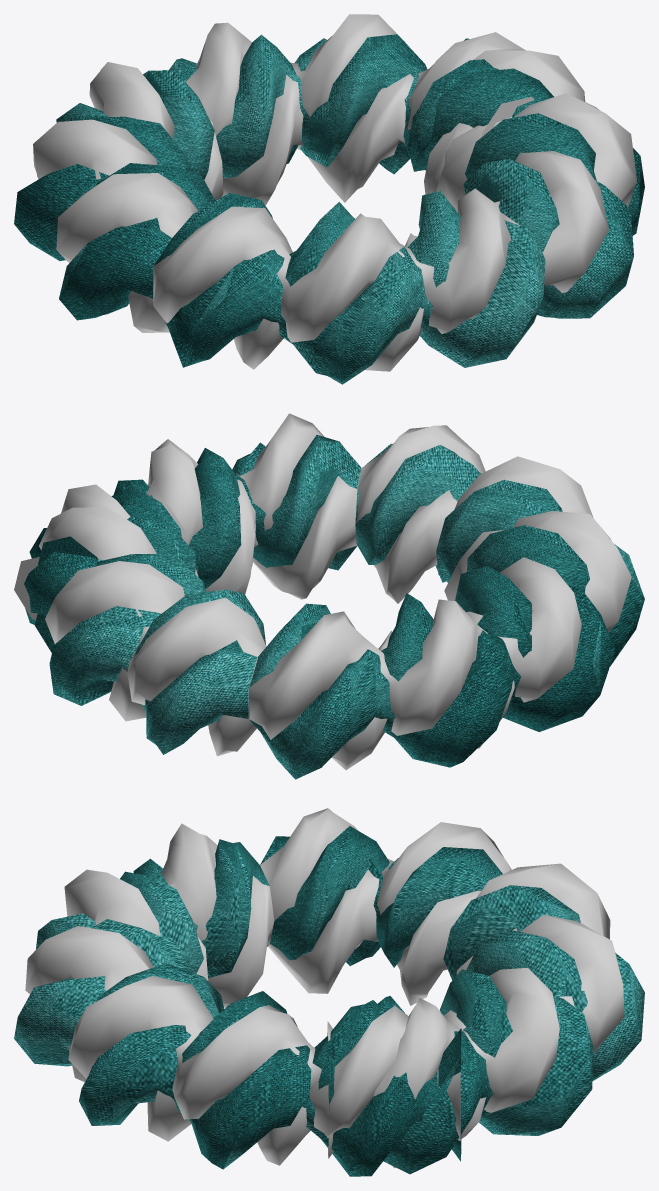
The model's file is chouchou.FBX.
3 views of the same model, one above another, from view 1: azimuth 30°, elevation 25°; view 2: azimuth 150°, elevation 25°; view 3: azimuth 270°, elevation 25° (orthographic). The views are drawn at different scales.
Visible parts, largest first — view 1: Cylindre006, Cylindre005, Cylindre004, Cylindre003; view 2: Cylindre006, Cylindre005, Cylindre004, Cylindre003; view 3: Cylindre006, Cylindre005, Cylindre004, Cylindre003.
Boxes of the visible parts, x1,y1,x2,y2 form: Cylindre006: (33, 14, 636, 342); Cylindre005: (89, 34, 596, 287); Cylindre004: (14, 38, 644, 384); Cylindre003: (128, 74, 511, 371); Cylindre006: (14, 413, 631, 739); Cylindre005: (38, 435, 589, 686); Cylindre004: (24, 442, 644, 779); Cylindre003: (109, 468, 514, 770); Cylindre006: (25, 808, 624, 1141); Cylindre005: (91, 826, 587, 1089); Cylindre004: (14, 836, 644, 1176); Cylindre003: (68, 869, 516, 1168).
Bounding box in the file's own units: 18.92 × 5.48 × 18.89.
